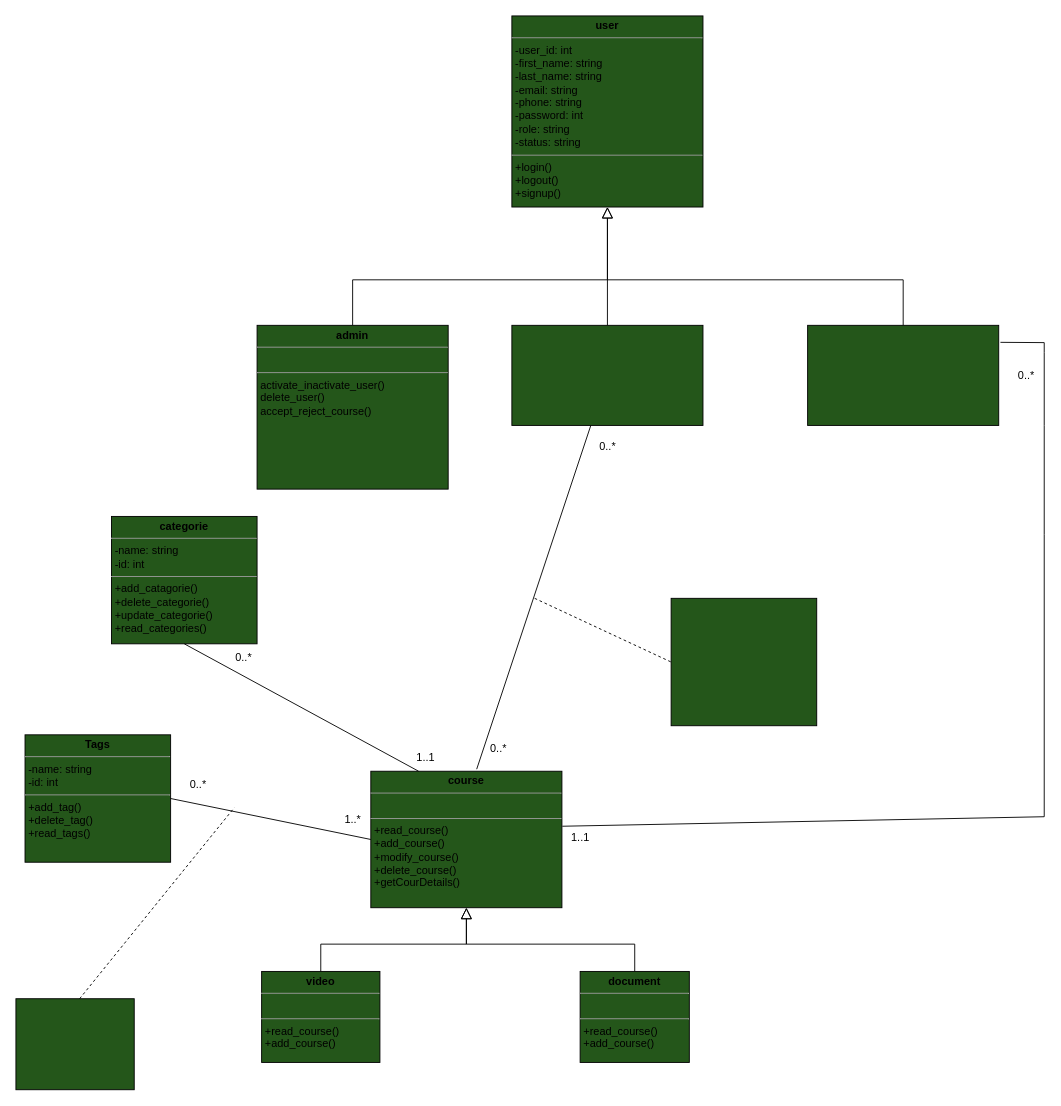
The diagram is 1061 pixels wide and 1106 high, and some of its shapes have lost their labels. Here are the shapes that lost their labels. From the top down, the centre of each, then its label:
At point (607, 374): "student +enrolledCources()".
At point (903, 374): "Teacher".
At point (743, 661): "enrollements".
At point (74, 1044): "tags_courses -course_id: int -tags: string +taged_courses()".
